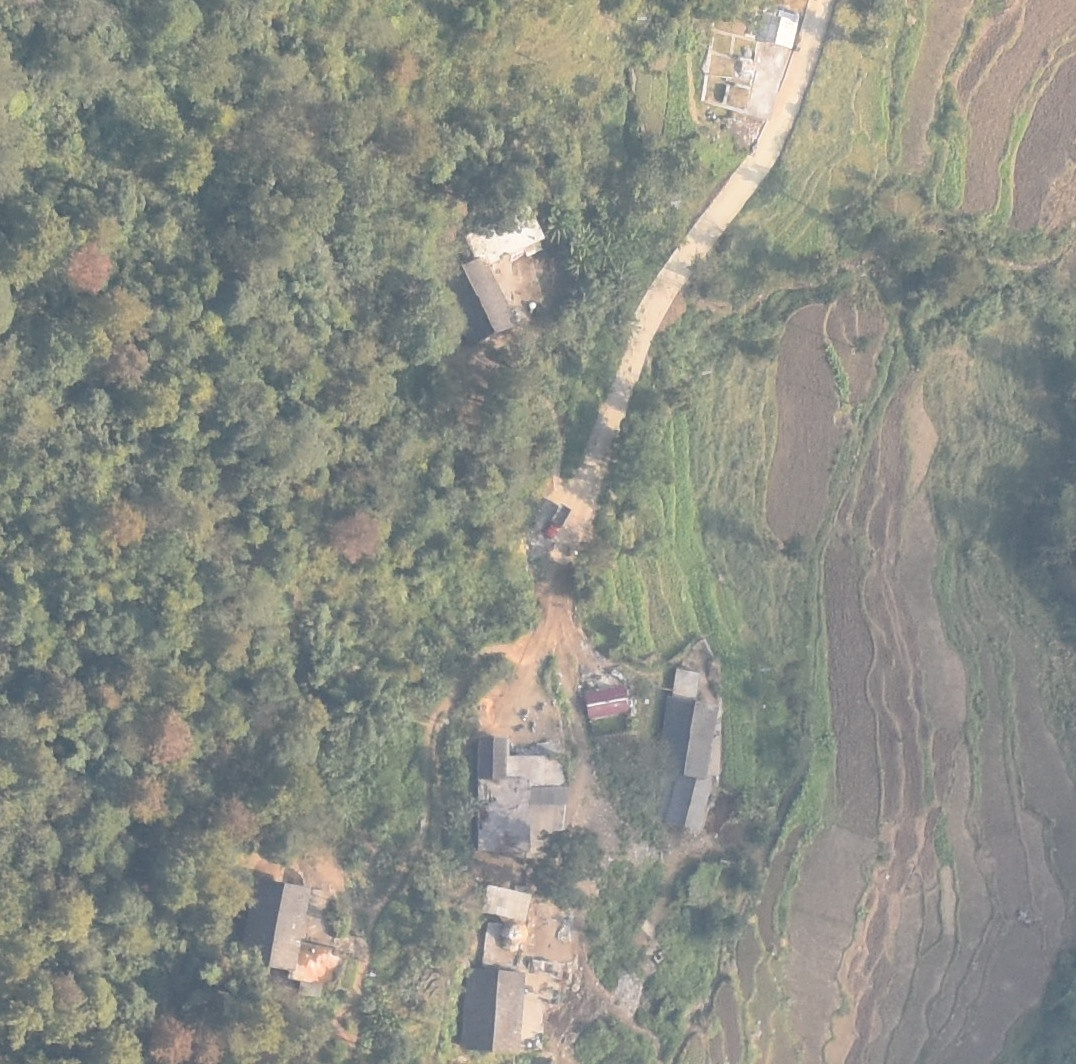building: (443, 258, 519, 346), (239, 883, 309, 971), (460, 968, 526, 1054), (464, 207, 549, 265), (660, 697, 718, 776), (666, 775, 715, 828), (290, 942, 347, 985), (480, 884, 534, 921), (754, 8, 800, 48), (583, 686, 631, 721), (476, 735, 513, 780), (671, 669, 702, 698)
vehicle: (542, 505, 571, 541)
